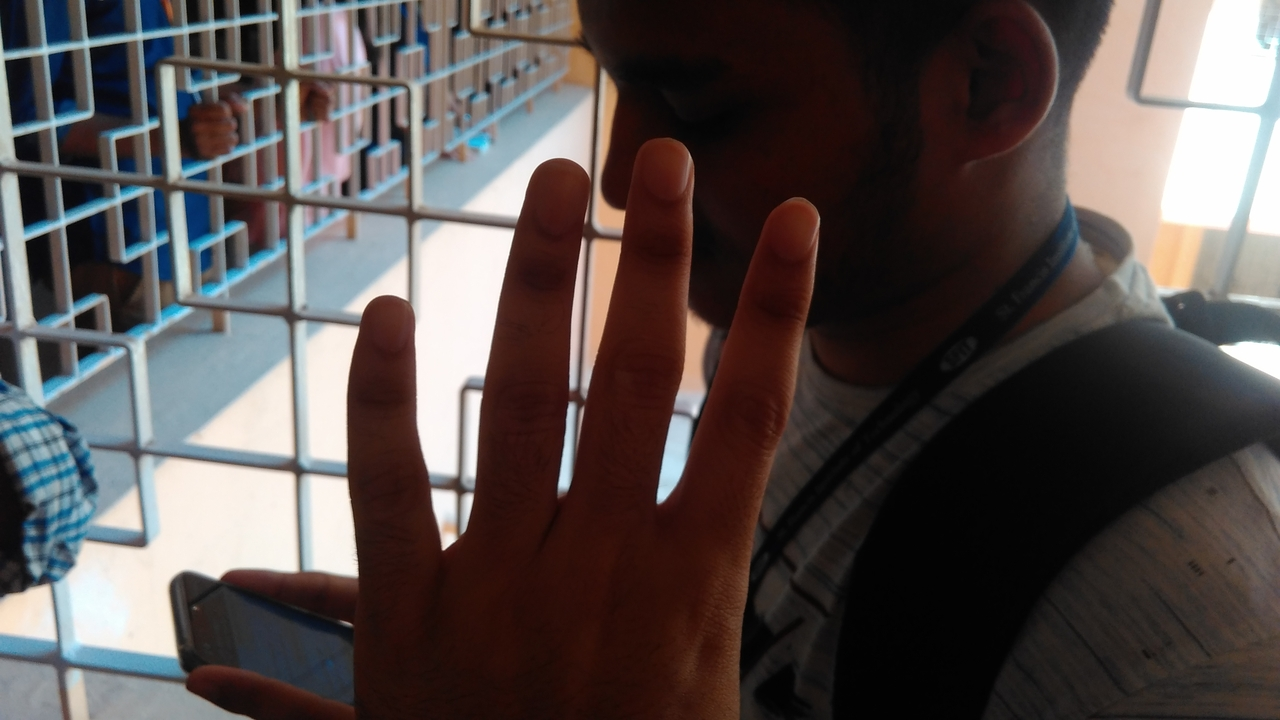fingertip: (506, 152, 588, 218), (344, 288, 414, 360), (758, 190, 824, 258), (630, 134, 698, 196)
